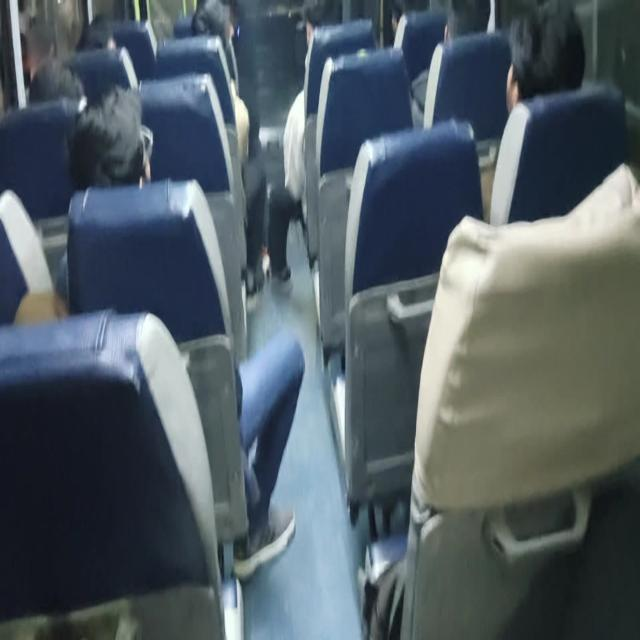person: (86, 99, 162, 183), (506, 11, 580, 96), (70, 12, 136, 59), (189, 4, 241, 58), (29, 58, 83, 102), (301, 0, 343, 49), (444, 0, 484, 37), (389, 0, 424, 36)
